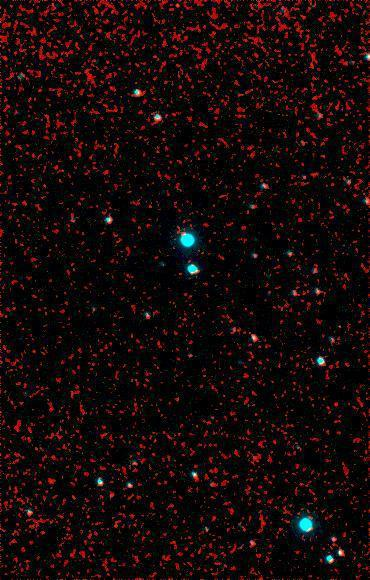star: (162, 0, 192, 20)
